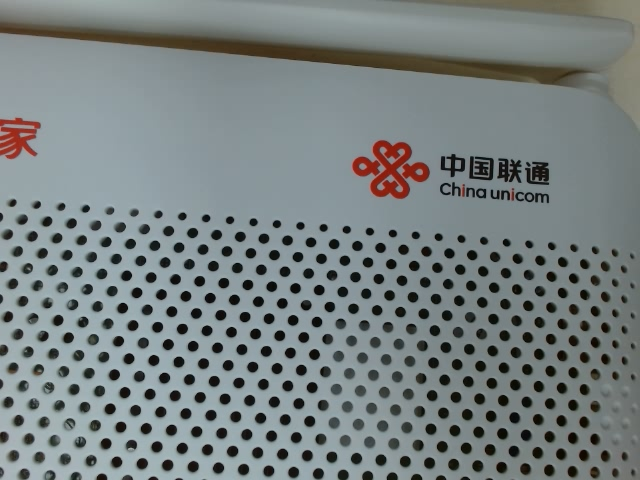ChinaUnicom2: (311, 105, 579, 219)
